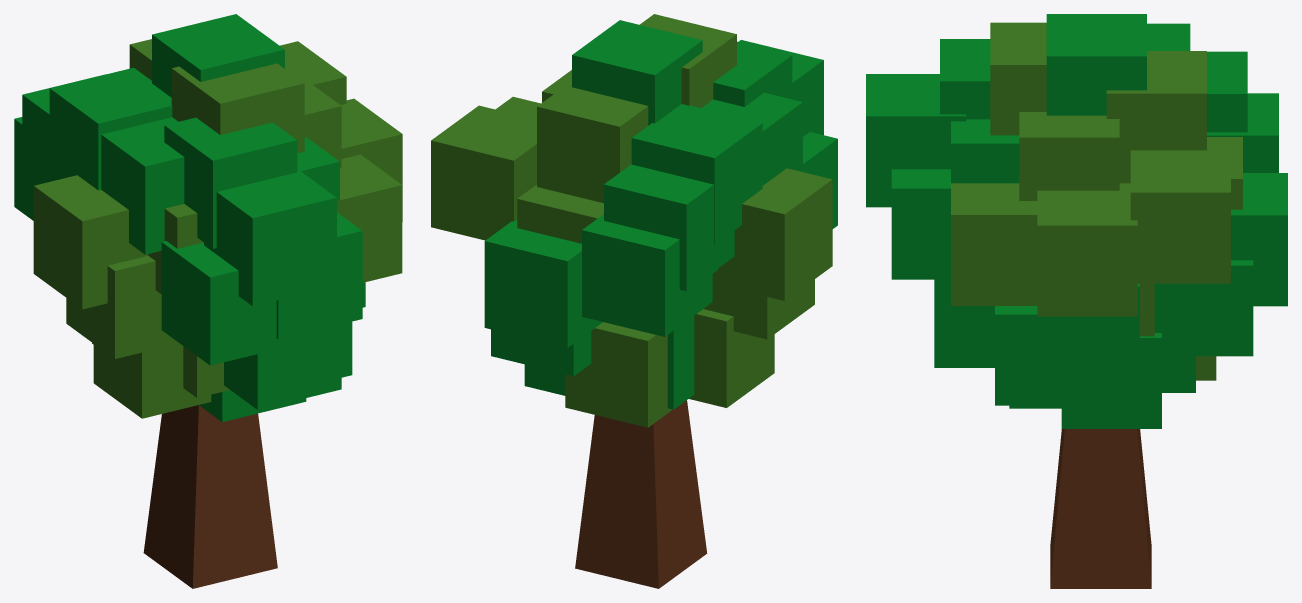
Rendered from voxeltree.fbx.
The picture shows the model from 3 angles, left to right: view 1: azimuth 30°, elevation 25°; view 2: azimuth 150°, elevation 25°; view 3: azimuth 270°, elevation 25°; orthographic projection. The views are drawn at different scales.
Parts seen in each view (by area): view 1: Cube; view 2: Cube; view 3: Cube.
Boxes of the visible parts, <box> form: Cube: <box>14,14,402,588</box>; Cube: <box>431,14,837,588</box>; Cube: <box>866,14,1287,588</box>.
Size of the model in its own units: 766 by 1177 by 841.
